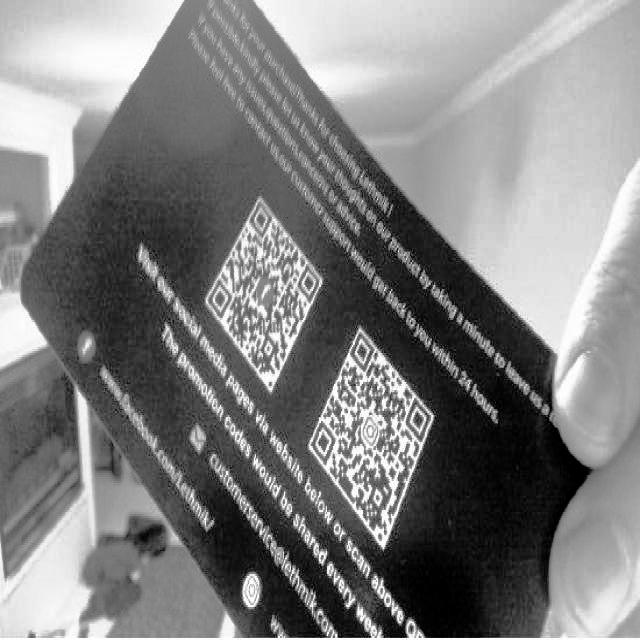qr_code: (305, 322, 454, 563), (192, 157, 323, 402)
